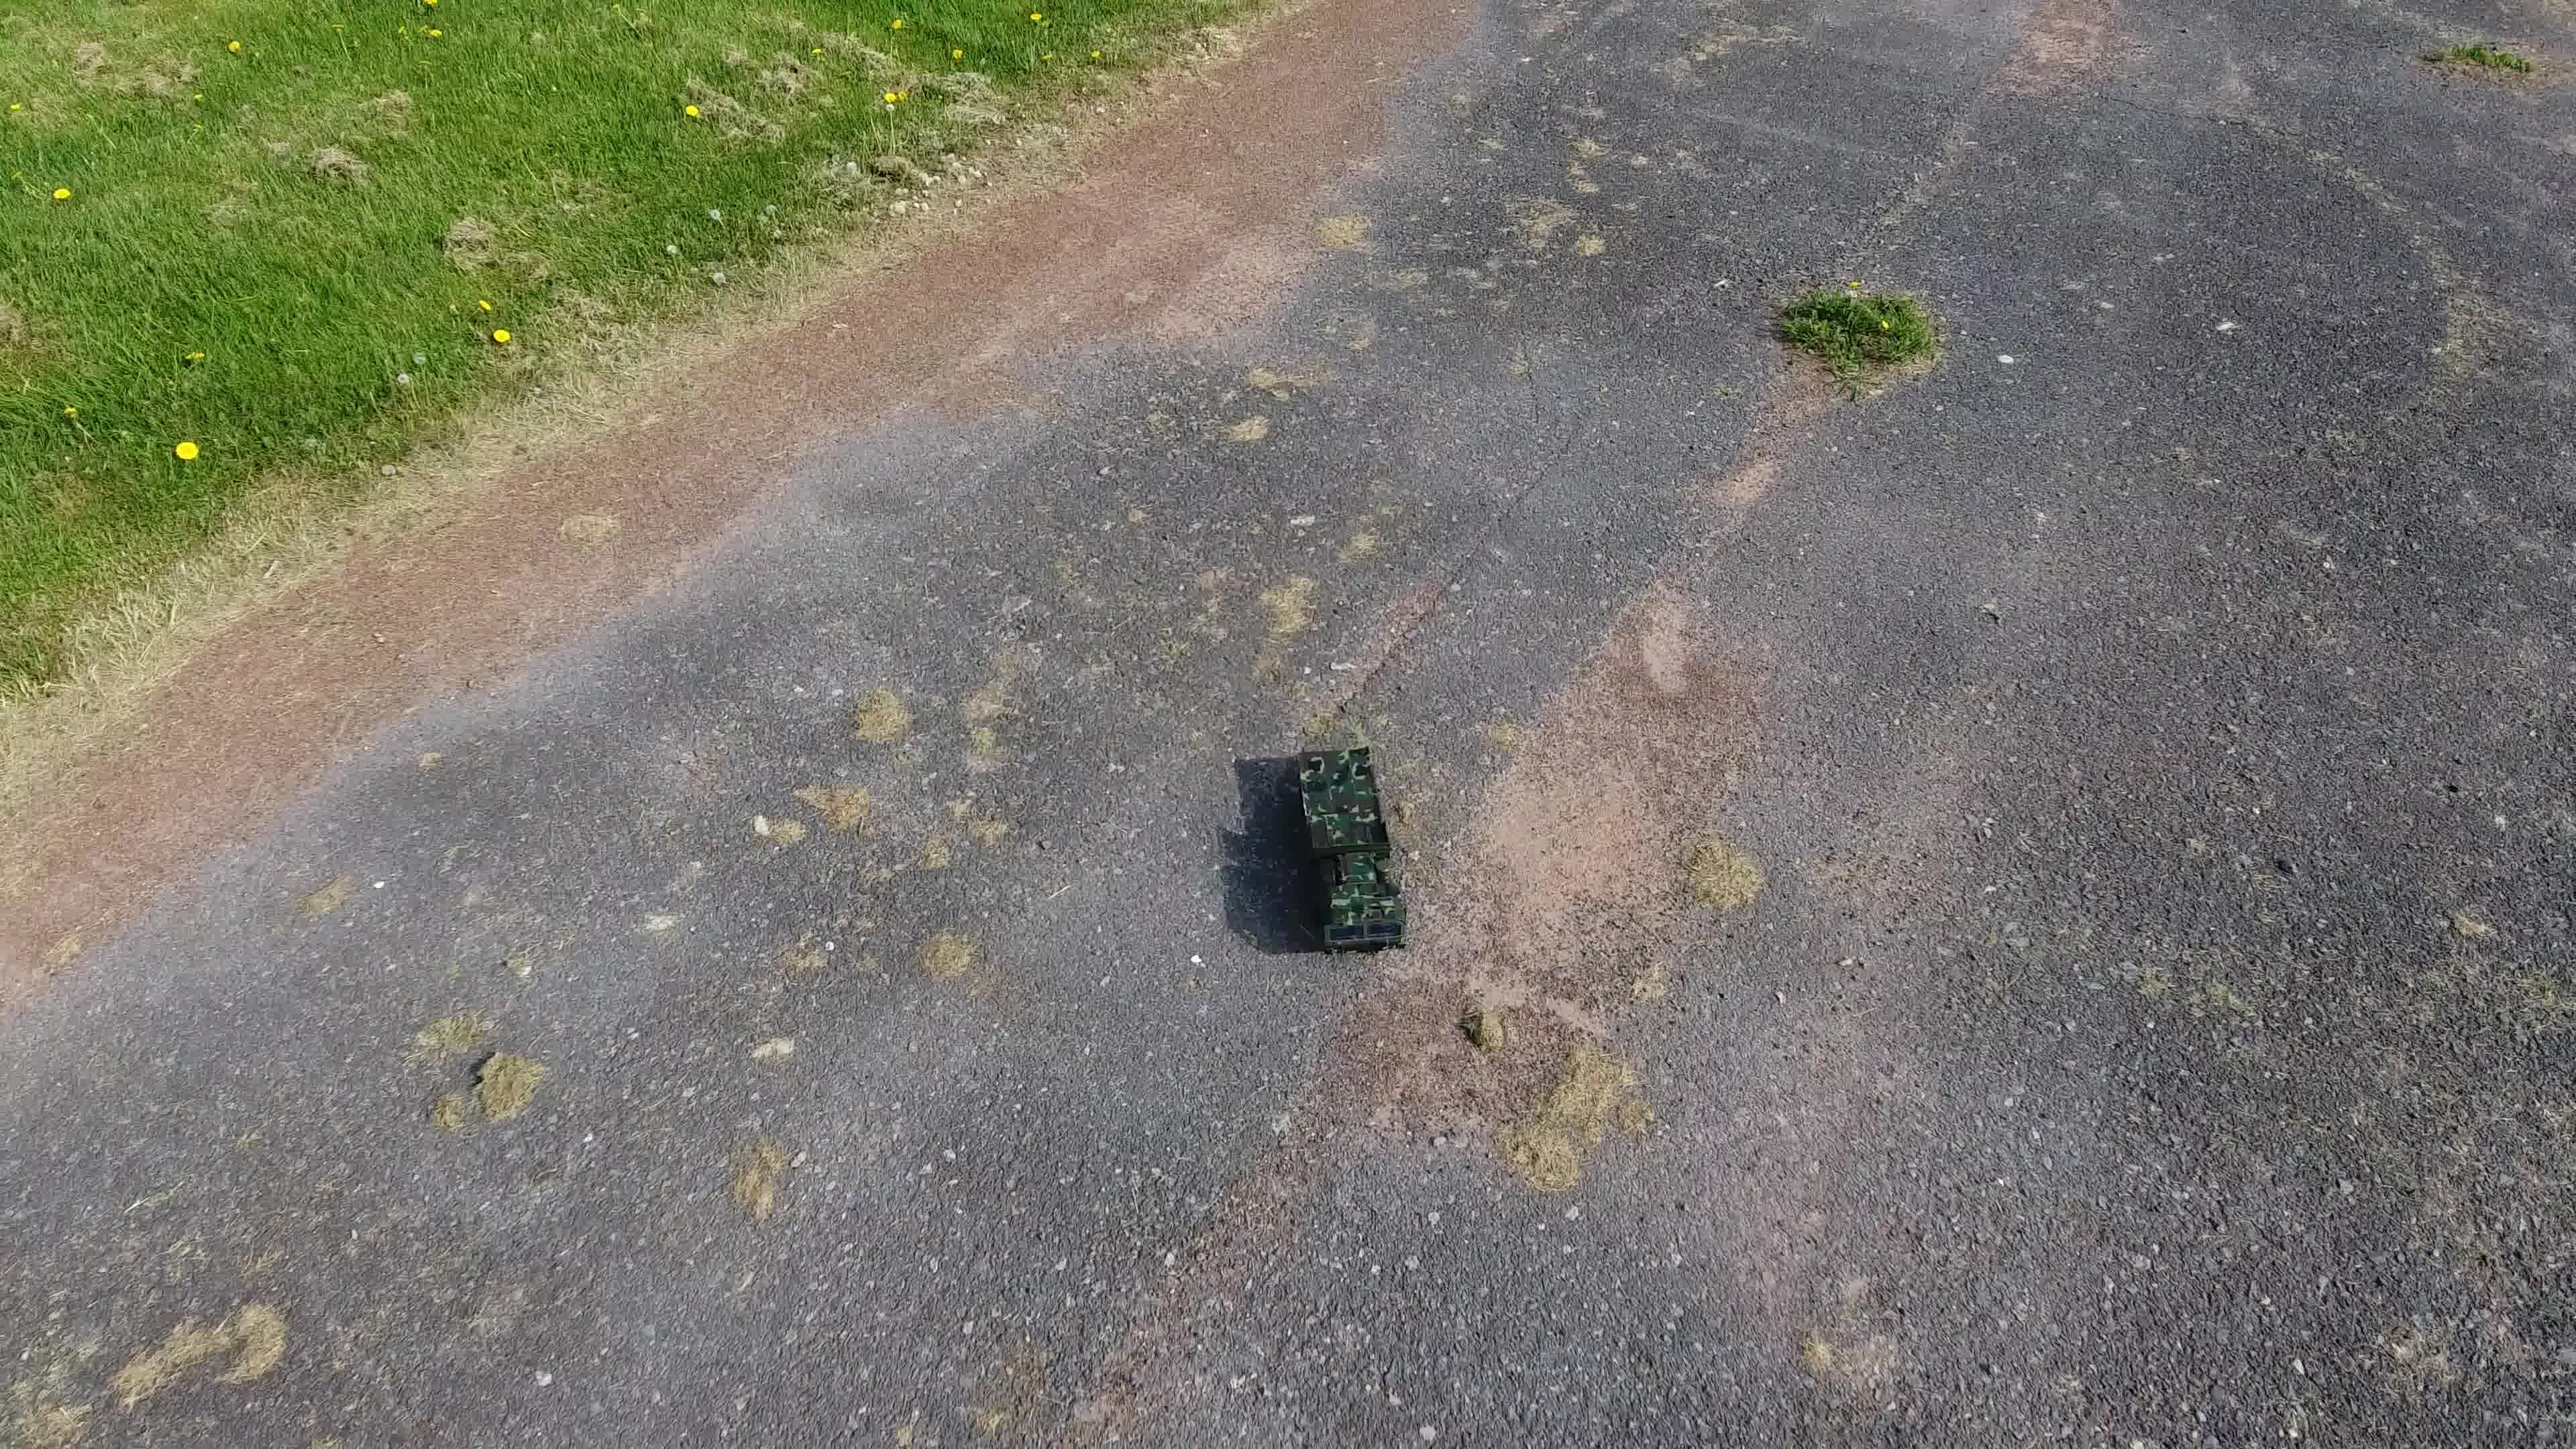transporter9: (1292, 743, 1419, 955)
